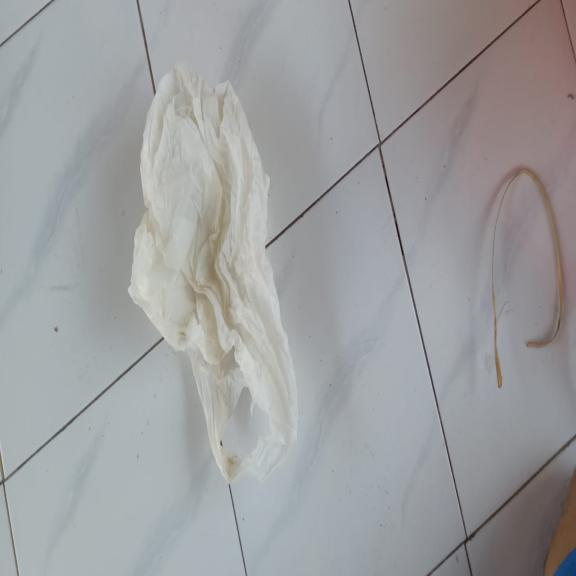Plastik: (127, 64, 299, 482)
